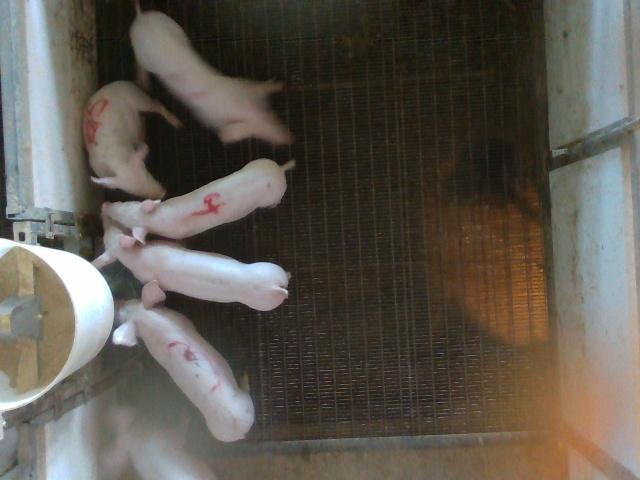pig-2: (130, 6, 292, 145)
pig-3: (112, 281, 254, 441)
pig-4: (104, 159, 295, 241)
pig-5: (84, 82, 181, 198)
